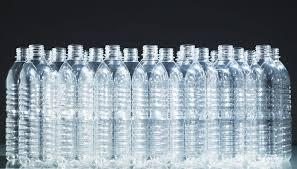Plastic bottle: (7, 35, 297, 169)
